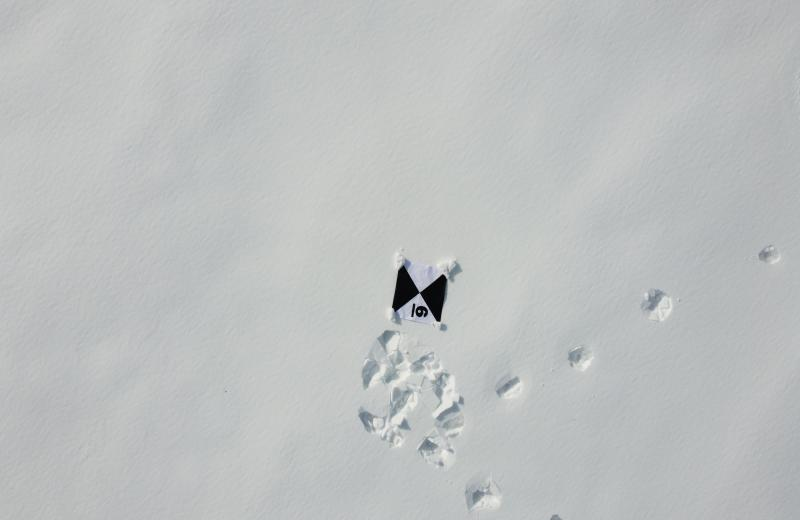Quarter Circle: (425, 120, 430, 123)
